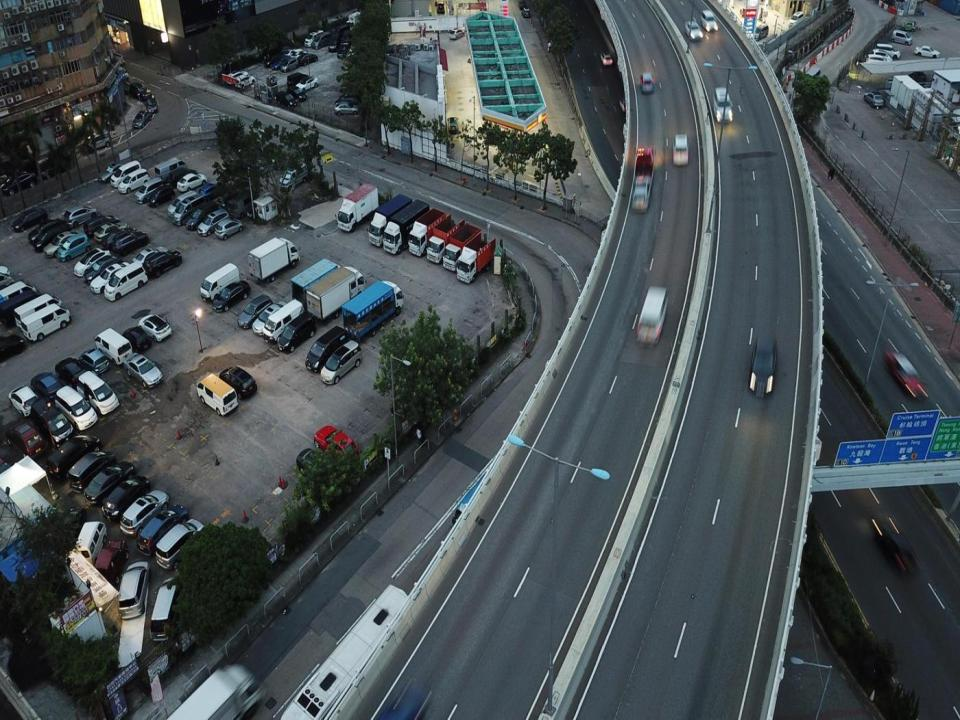bus: (275, 584, 422, 719), (640, 277, 668, 348)
car: (870, 514, 926, 581), (882, 344, 930, 404), (44, 432, 101, 479), (137, 502, 188, 553), (100, 475, 151, 524), (82, 459, 134, 507), (120, 487, 169, 535), (746, 333, 780, 400), (66, 449, 114, 494), (77, 370, 122, 418), (314, 421, 362, 464), (119, 558, 151, 622), (320, 340, 364, 385), (1, 415, 43, 459), (58, 385, 98, 431), (95, 534, 127, 583), (91, 257, 133, 294), (34, 402, 70, 442), (305, 324, 339, 366), (80, 251, 121, 285), (218, 366, 257, 400), (125, 353, 162, 387), (296, 447, 330, 483), (71, 247, 110, 277), (271, 305, 306, 336), (143, 251, 181, 279), (53, 234, 88, 264), (212, 280, 249, 308), (668, 125, 690, 172), (8, 383, 38, 416), (711, 86, 734, 129), (283, 316, 315, 346), (243, 291, 269, 326), (138, 315, 172, 341), (64, 202, 97, 225), (83, 215, 119, 235), (187, 203, 217, 227), (12, 207, 46, 228), (259, 302, 281, 334), (124, 322, 150, 349), (0, 172, 34, 192), (30, 369, 57, 394), (134, 244, 166, 265), (28, 220, 65, 238), (34, 230, 68, 248), (636, 66, 655, 98), (59, 359, 84, 382), (217, 216, 242, 238), (202, 211, 227, 233), (176, 171, 206, 189), (81, 348, 106, 369), (105, 230, 137, 246), (700, 11, 719, 37), (95, 222, 124, 239), (96, 163, 120, 182), (118, 234, 144, 251), (688, 21, 708, 43), (131, 109, 152, 129), (86, 129, 108, 148), (47, 234, 76, 248), (914, 44, 940, 59), (149, 187, 173, 202), (863, 89, 883, 107), (891, 29, 913, 45), (878, 44, 900, 59), (198, 180, 216, 197), (446, 114, 461, 134), (866, 55, 888, 68), (447, 27, 466, 42), (872, 50, 892, 62), (130, 80, 143, 96), (600, 48, 612, 65), (144, 97, 158, 111), (429, 34, 440, 47), (901, 20, 914, 29)
truck: (342, 279, 404, 340), (305, 265, 365, 321), (288, 258, 340, 314), (380, 199, 428, 257), (246, 233, 300, 282), (366, 193, 412, 248), (403, 206, 446, 256), (336, 182, 378, 232), (424, 214, 466, 264), (440, 223, 482, 272), (456, 230, 494, 284), (630, 140, 656, 214)
van: (154, 517, 204, 573), (22, 303, 72, 343), (196, 374, 238, 417), (104, 262, 149, 302), (196, 263, 241, 302), (154, 577, 184, 635), (73, 521, 105, 567), (15, 298, 63, 327), (94, 327, 130, 365), (2, 294, 39, 319), (109, 159, 142, 187), (117, 168, 150, 194), (155, 155, 189, 179), (280, 163, 308, 189), (2, 282, 34, 302), (177, 196, 202, 218), (134, 179, 156, 197), (752, 21, 769, 44), (173, 193, 192, 213), (788, 8, 804, 28)
